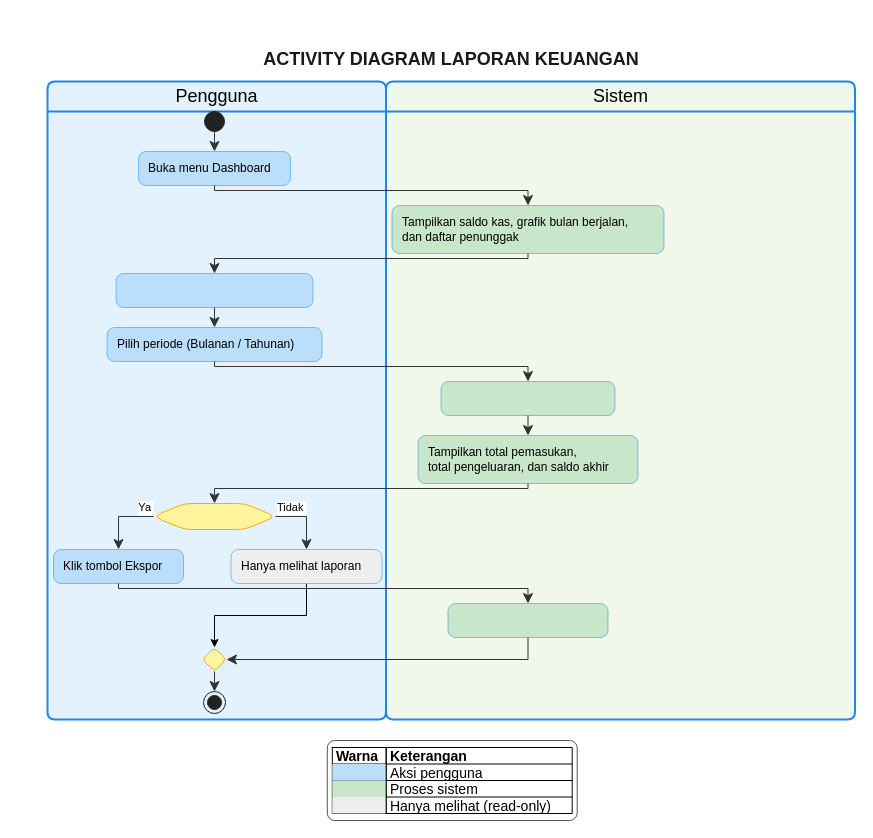
The diagram is 873 pixels wide and 838 high, and some of its shapes have lost their labels. Here are the shapes that lost their labels. From the top down, the centre of each, then its label:
At point (214, 290): "Buka menu Laporan Keuangan".
At point (527, 398): "Susun rekapitulasi laporan".
At point (214, 516): "Ekspor laporan?".
At point (527, 620): "Hasilkan berkas laporan".
